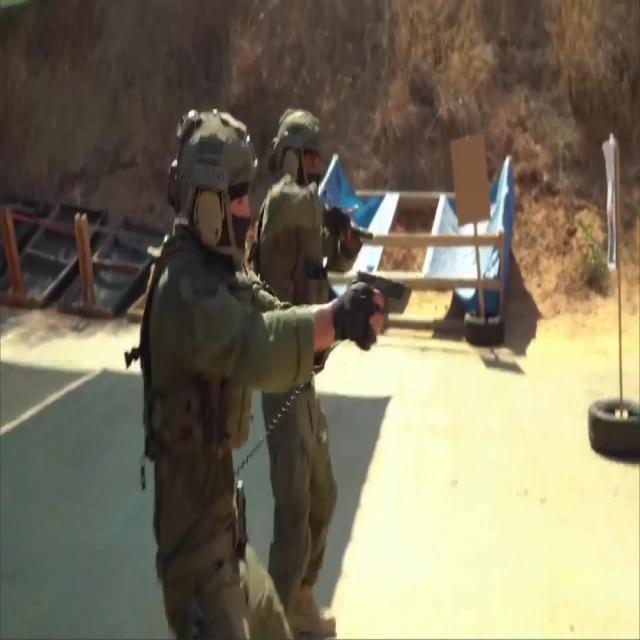weapon: (351, 270, 409, 352), (344, 220, 374, 242)
